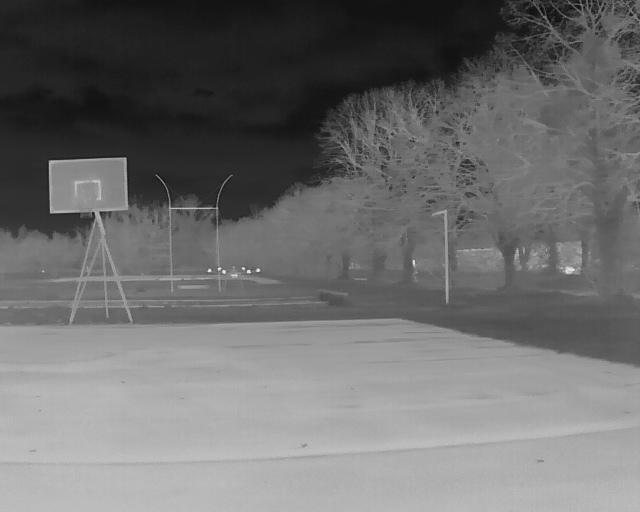drone: (204, 254, 262, 303)
